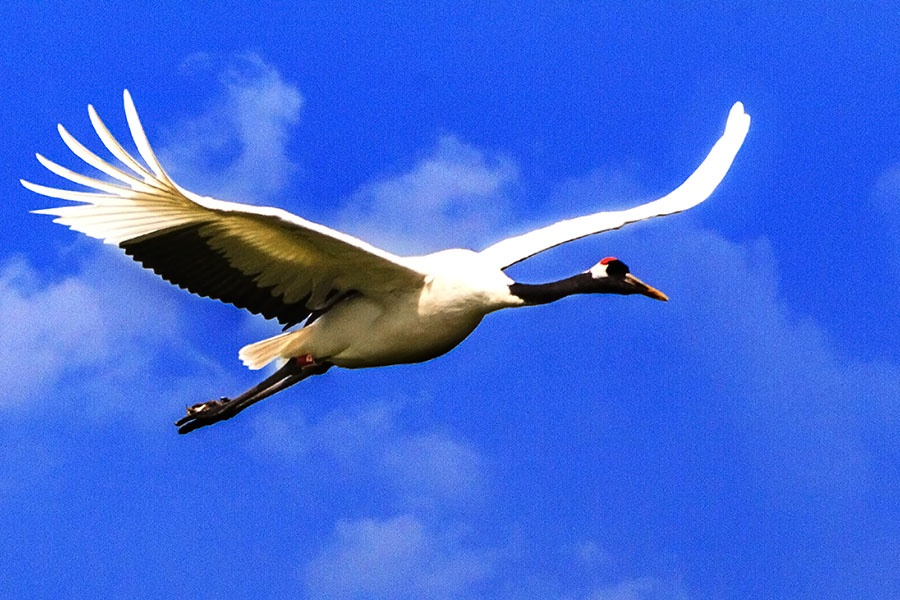bird: (16, 97, 752, 437)
